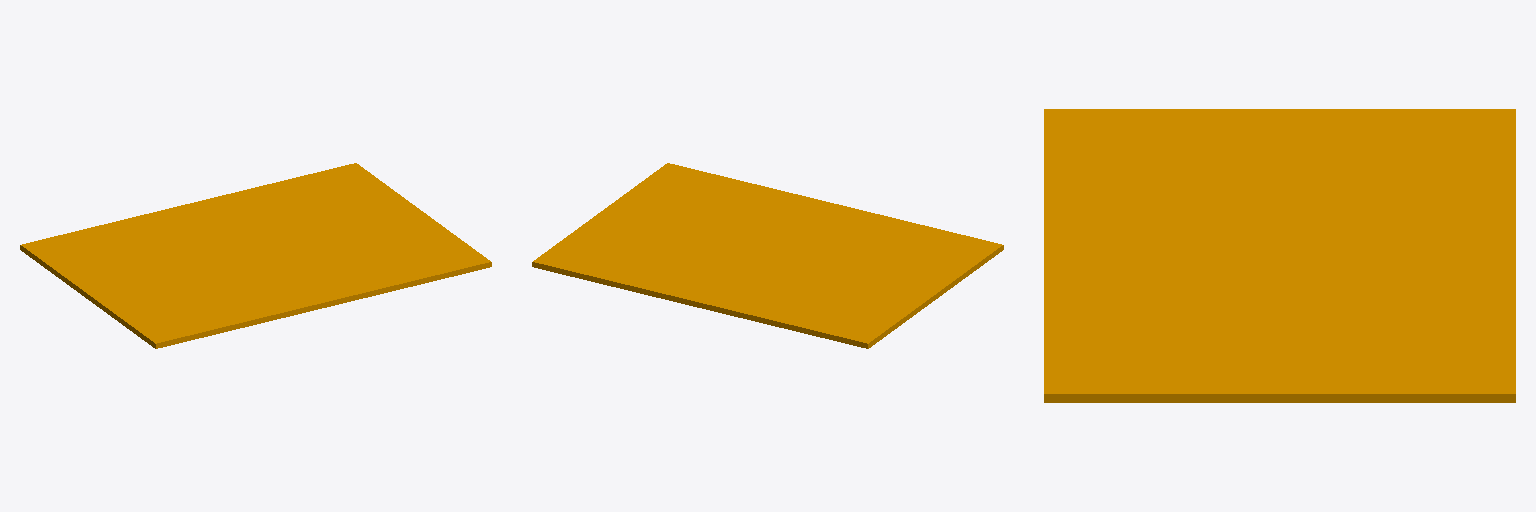
The robot description file, URDF, robot "laptop_lid":
<robot name="laptop_lid">
<link name="lid"><inertial><origin xyz="0.00000 -0.12405 0.00000"/><mass value="0.55"/><inertia ixx="2.823e-03" ixy="0" ixz="0" iyy="5.800e-03" iyz="0" izz="8.620e-03"/></inertial>
<visual><origin xyz="0.00000 0.00000 0.00000" rpy="0.00000 0.00000 0.00000"/><geometry><mesh filename="laptop_lid_vis.obj"/></geometry></visual>
<collision><origin xyz="0.00000 -0.12405 0.00000" rpy="0 0 0"/><geometry><box size="0.35570 0.24810 0.00550"/></geometry></collision>
</link>
</robot>

--- Facts derived from the render (not from the file) ---
The picture shows the robot from 3 angles, left to right: view 1: azimuth 30°, elevation 25°; view 2: azimuth 150°, elevation 25°; view 3: azimuth 270°, elevation 25°; orthographic projection.
Model laptop_lid with 1 links and 0 joints (none), rooted at lid, posed every joint at zero.
Visible links, largest first — view 1: lid; view 2: lid; view 3: lid.
Boxes of the visible links, x1=… form: lid: x1=20, y1=163, x2=491, y2=348; lid: x1=532, y1=163, x2=1003, y2=348; lid: x1=1044, y1=109, x2=1515, y2=402.
Size in the robot's own frame: 0.3557 by 0.2481 by 0.0055 metres.
Meshes: 1 distinct files referenced, 1 mesh visuals loaded (1 OBJ).
